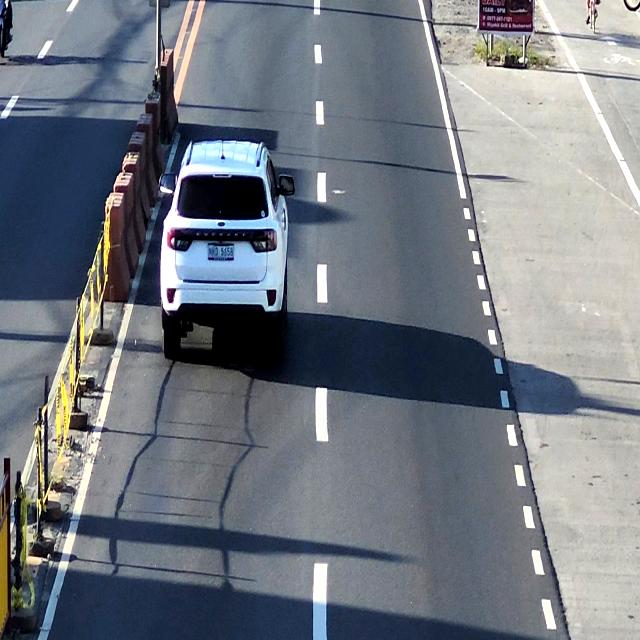Car: (163, 144, 289, 365)
License-Plate: (205, 242, 235, 264)
